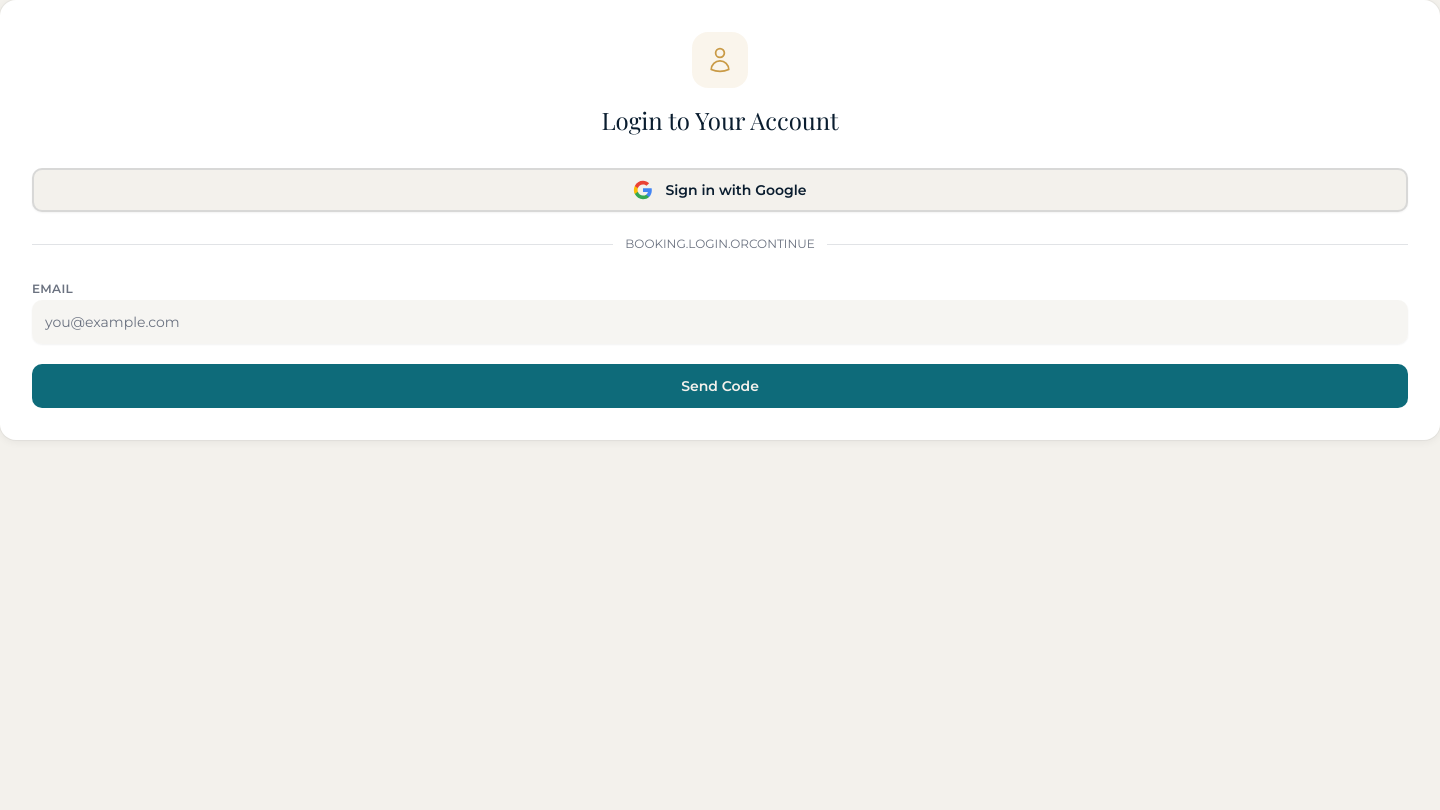
Test: LoginForm › requests a code and advances to the code step
In the field labelled "Email": [720, 322] box top-left (32, 300), bottom-right (1408, 344), type "demo@quetzal.com"
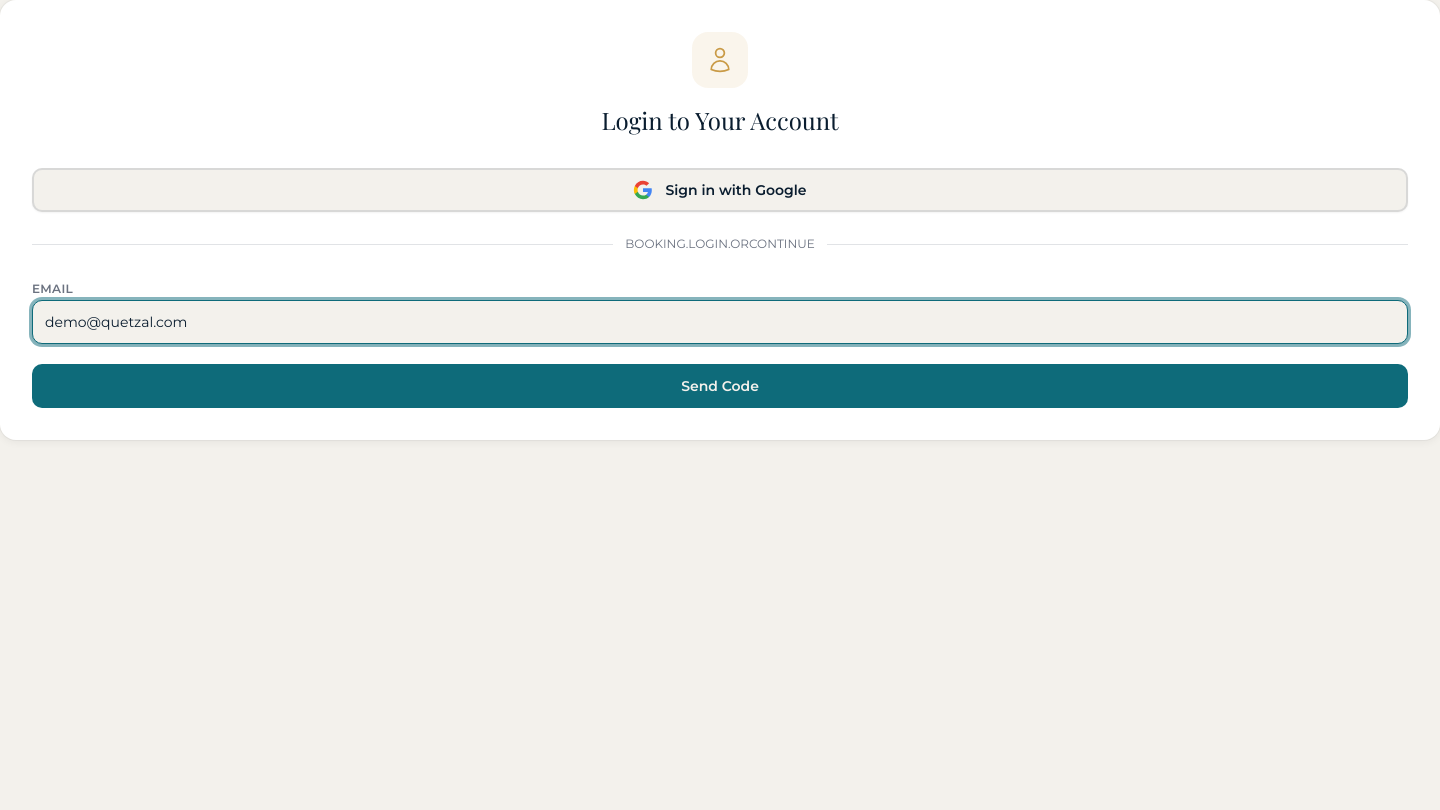
Click the button "Send Code": [720, 386] box top-left (32, 364), bottom-right (1408, 408)
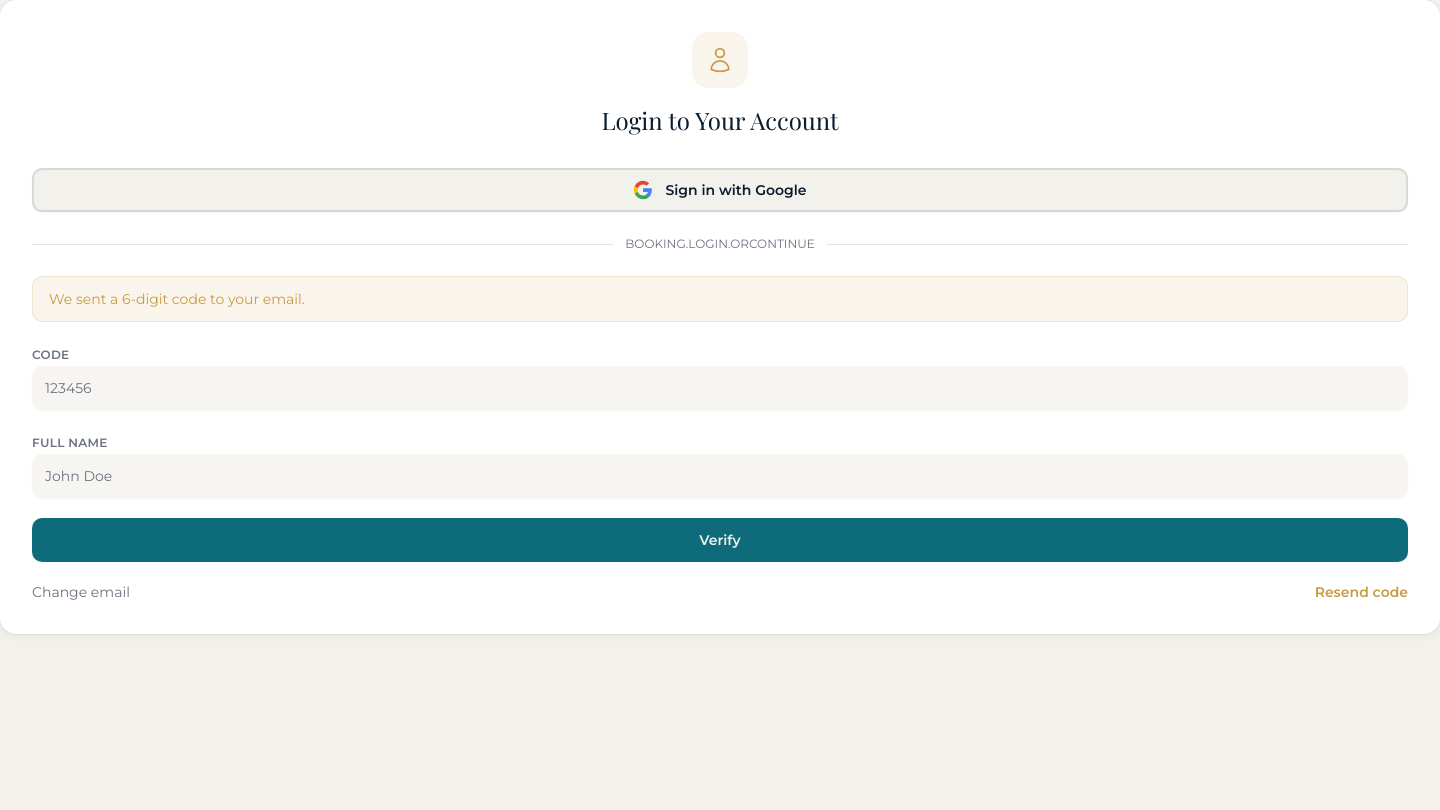
Now the field labelled "Code" is shown, box top-left (32, 366), bottom-right (1408, 410)
